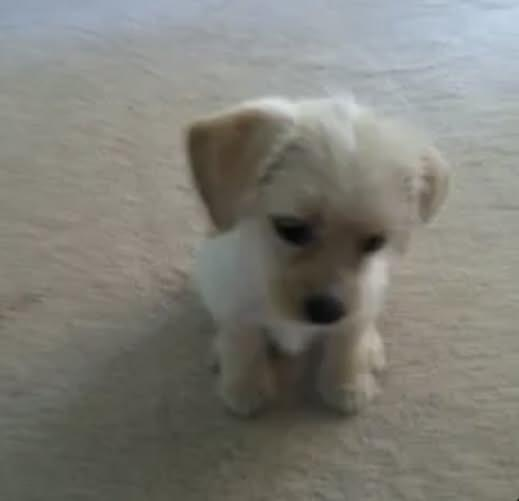puppy-dog: (182, 93, 451, 423)
